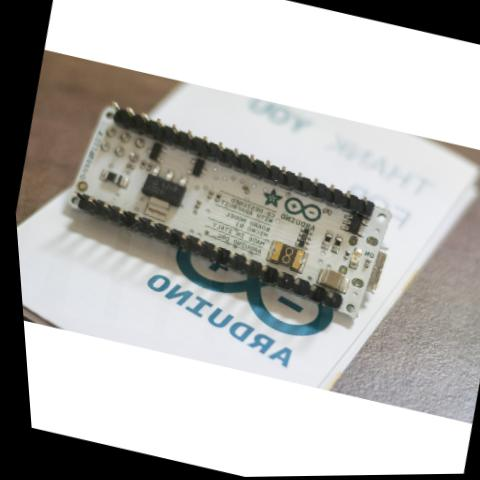Arduino-Micro: (40, 88, 410, 332)
